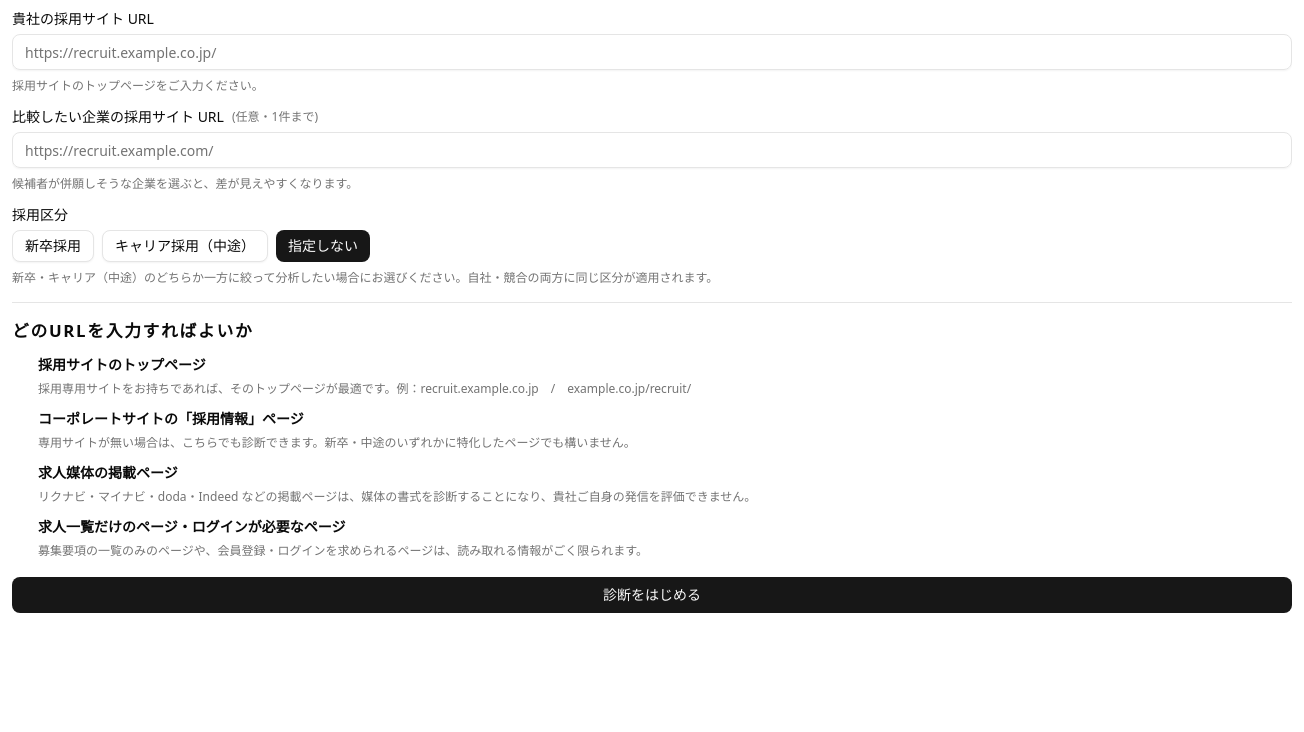
it: LeadAnalysisForm › requires the self site URL
This screenshot has width=1304, height=732.
Click the button "診断をはじめる" at [652, 595], box [12,577,1292,613]
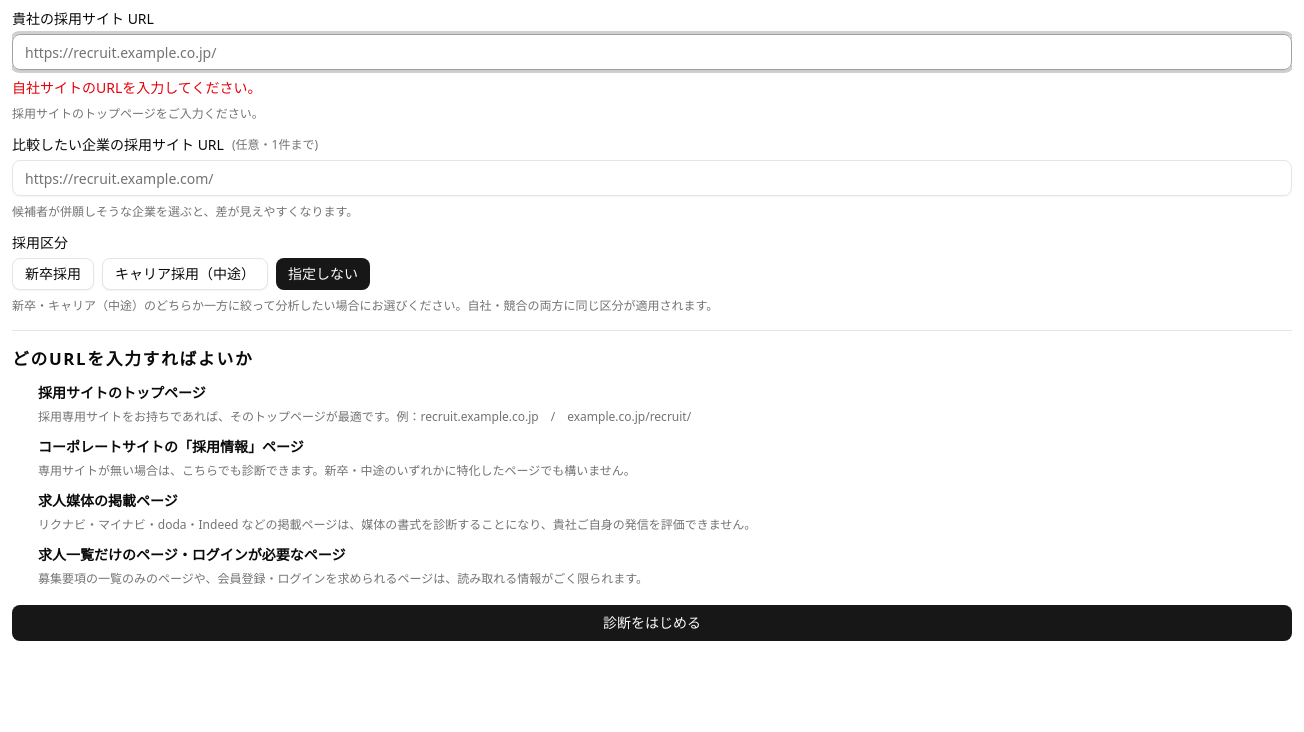
Check: the text "自社サイトのURLを入力してください。" is shown, box [12,78,261,97]
